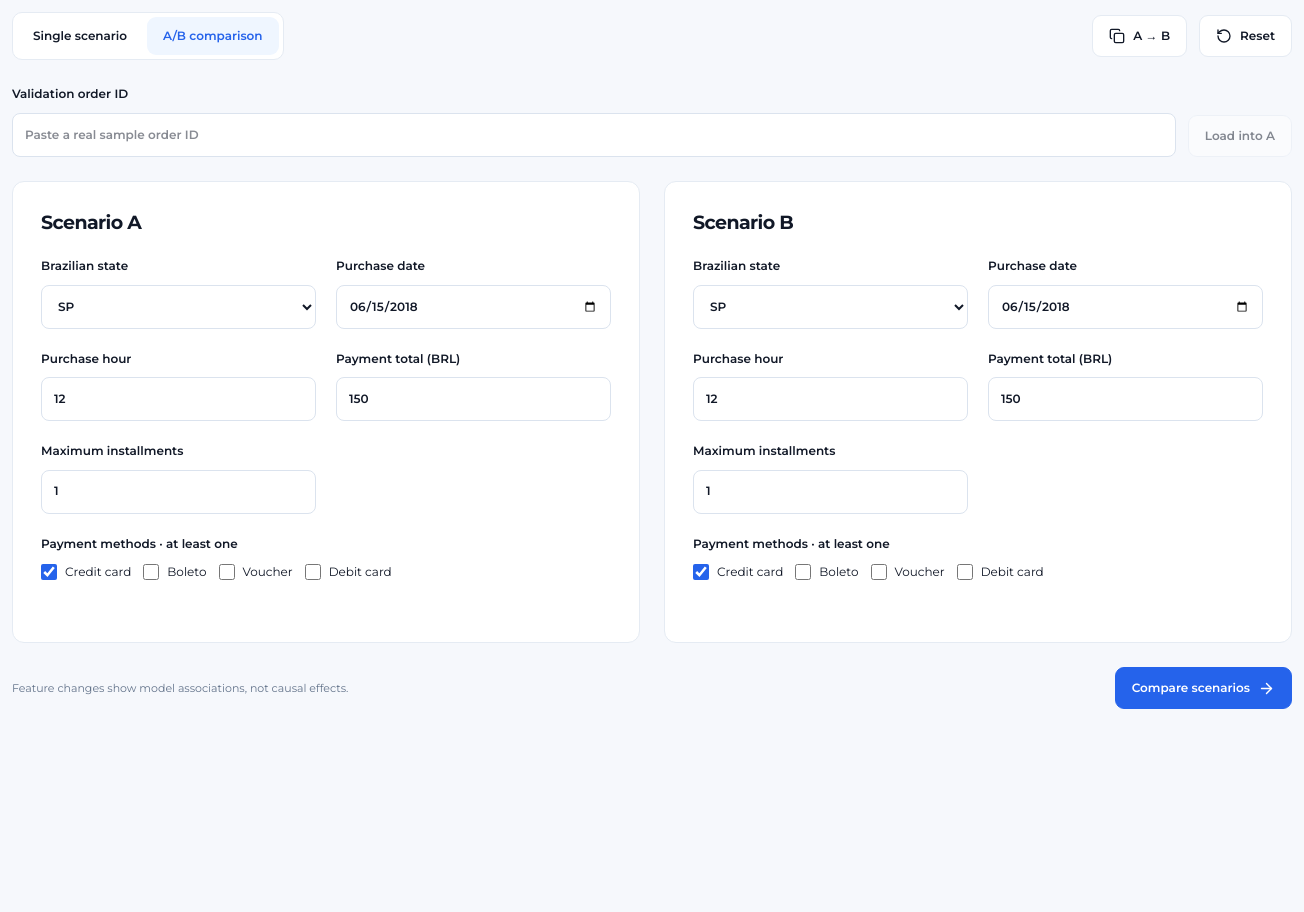
API contract and scenarios › retains inputs and renders a failed inference
Click the button "Compare scenarios" at (1203, 688), box [1115, 667, 1292, 709]
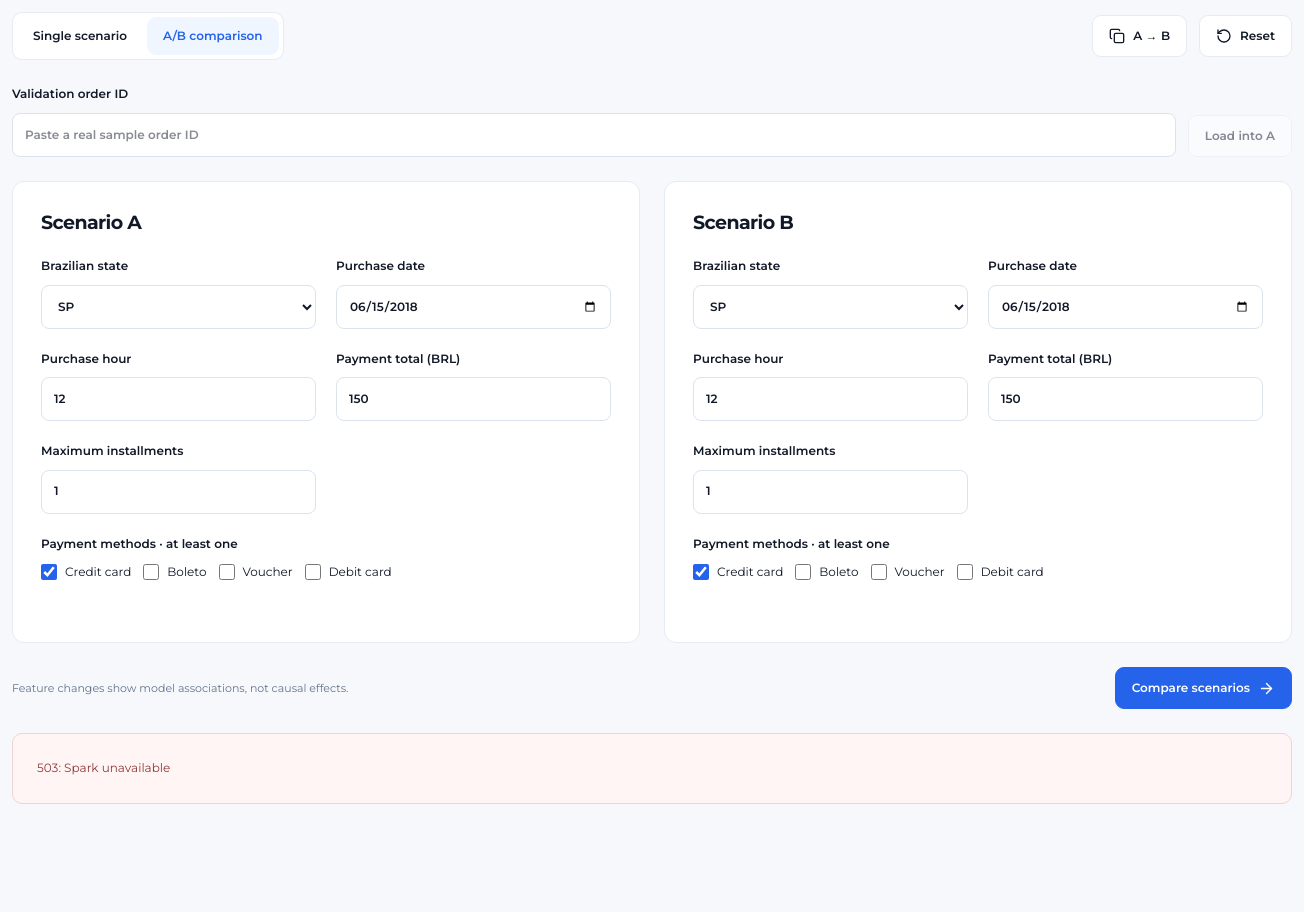
Expected: the text "503: Spark unavailable" is shown, [12, 733, 1292, 804]
